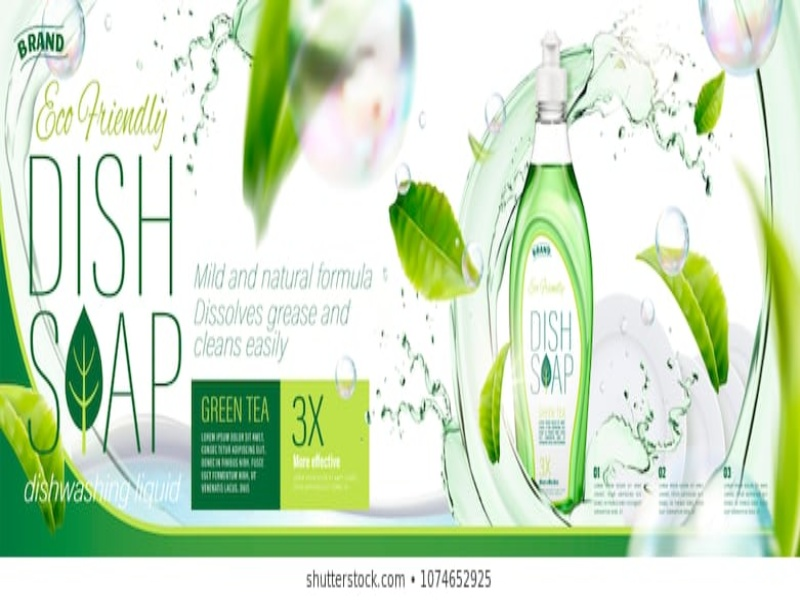detergent-bottle: (502, 28, 593, 513)
